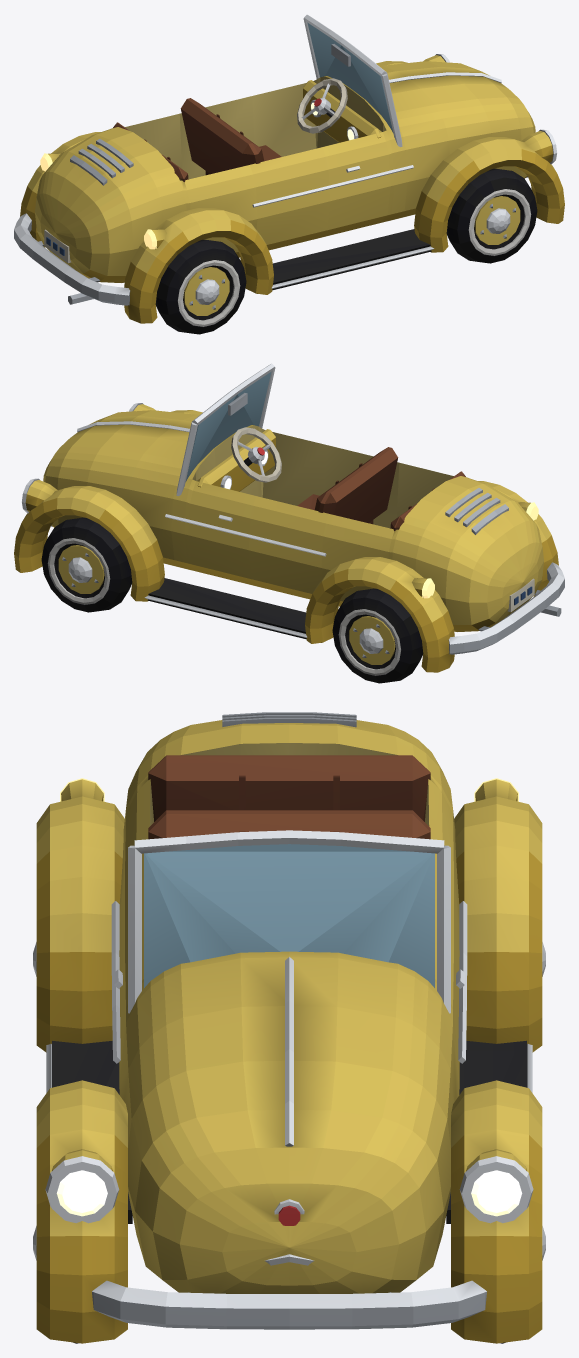
The model's file is mt_car_yellow.glb.
3 renders of one model, top to bottom at view 1: azimuth 30°, elevation 25°; view 2: azimuth 150°, elevation 25°; view 3: azimuth 270°, elevation 25°, orthographic. The views are drawn at different scales.
Visible parts, largest first — view 1: base, wheel1_m, wheel3_m, steer_m; view 2: base, wheel0_m, wheel2_m, steer_m; view 3: base.
Part boxes in pixels (left/top/right/bottom): base: left=14, top=14, right=564, bottom=323; wheel1_m: left=446, top=168, right=537, bottom=263; wheel3_m: left=155, top=239, right=246, bottom=334; steer_m: left=297, top=78, right=347, bottom=133; base: left=14, top=363, right=564, bottom=672; wheel0_m: left=41, top=517, right=132, bottom=612; wheel2_m: left=332, top=588, right=423, bottom=683; steer_m: left=231, top=427, right=281, bottom=482; base: left=36, top=712, right=542, bottom=1343.
Size of the model in its own units: 0.9881 by 0.4052 by 0.458.
